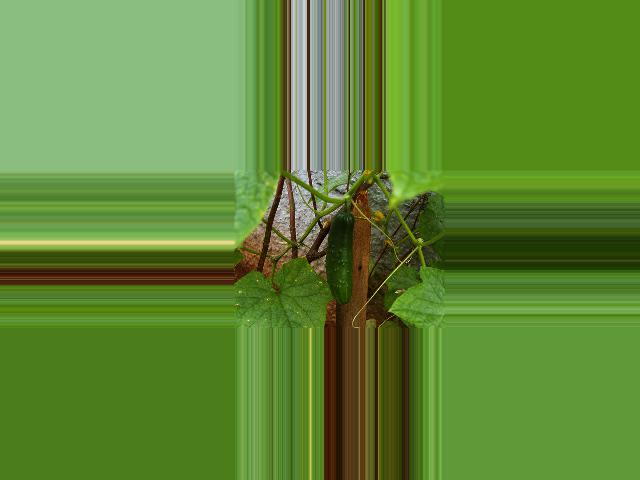cucumber: (326, 210, 355, 305)
